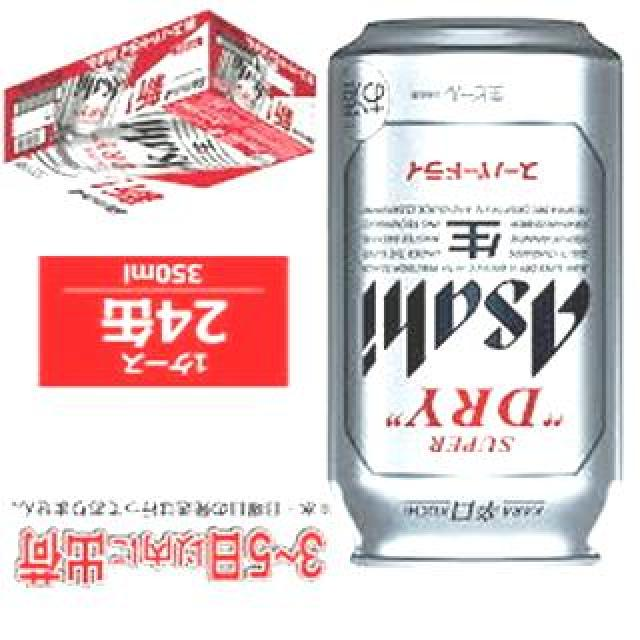Can: (319, 15, 629, 573)
